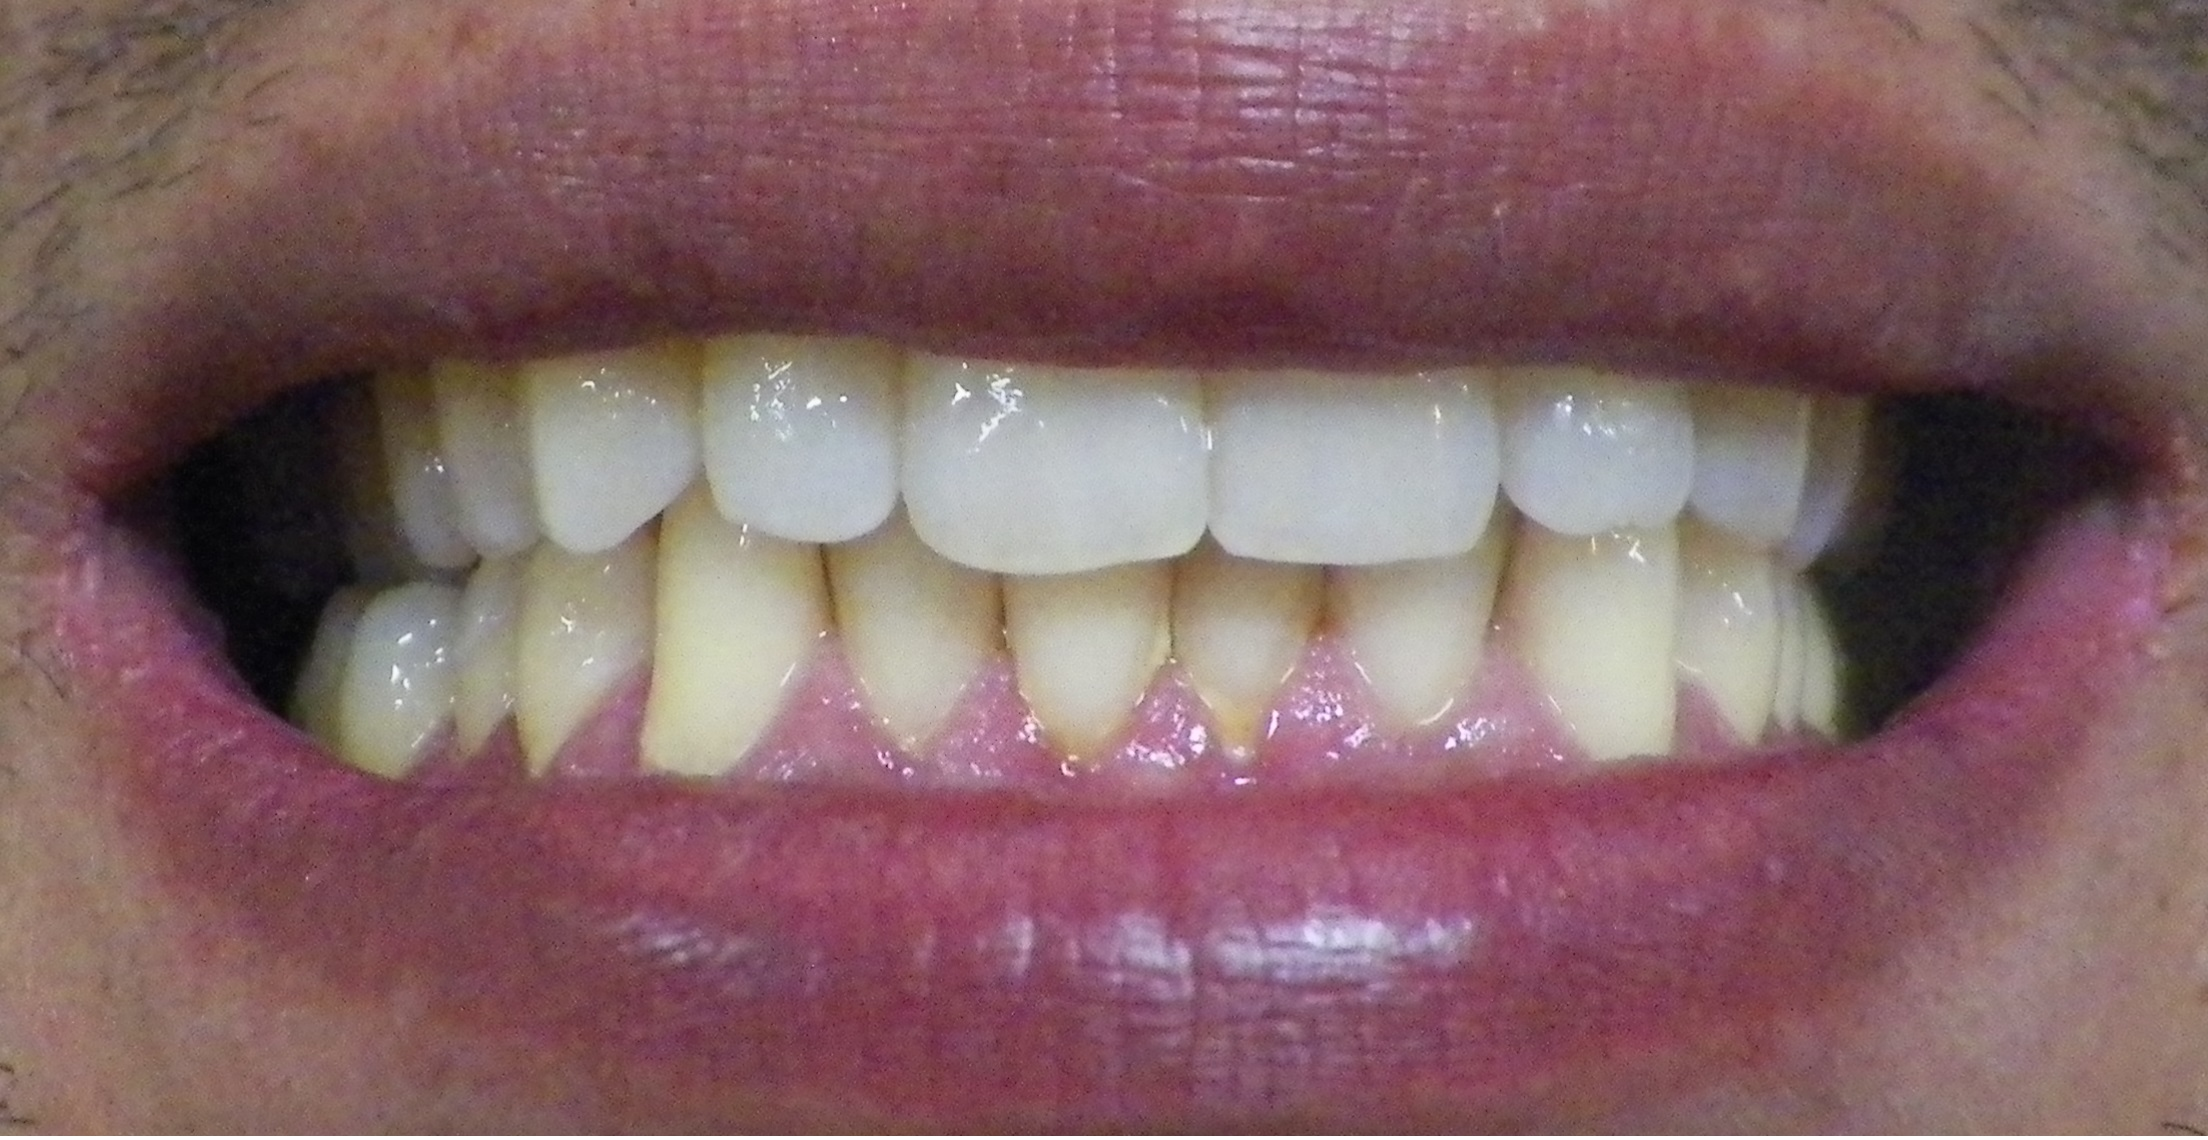boca: (278, 355, 1882, 775)
